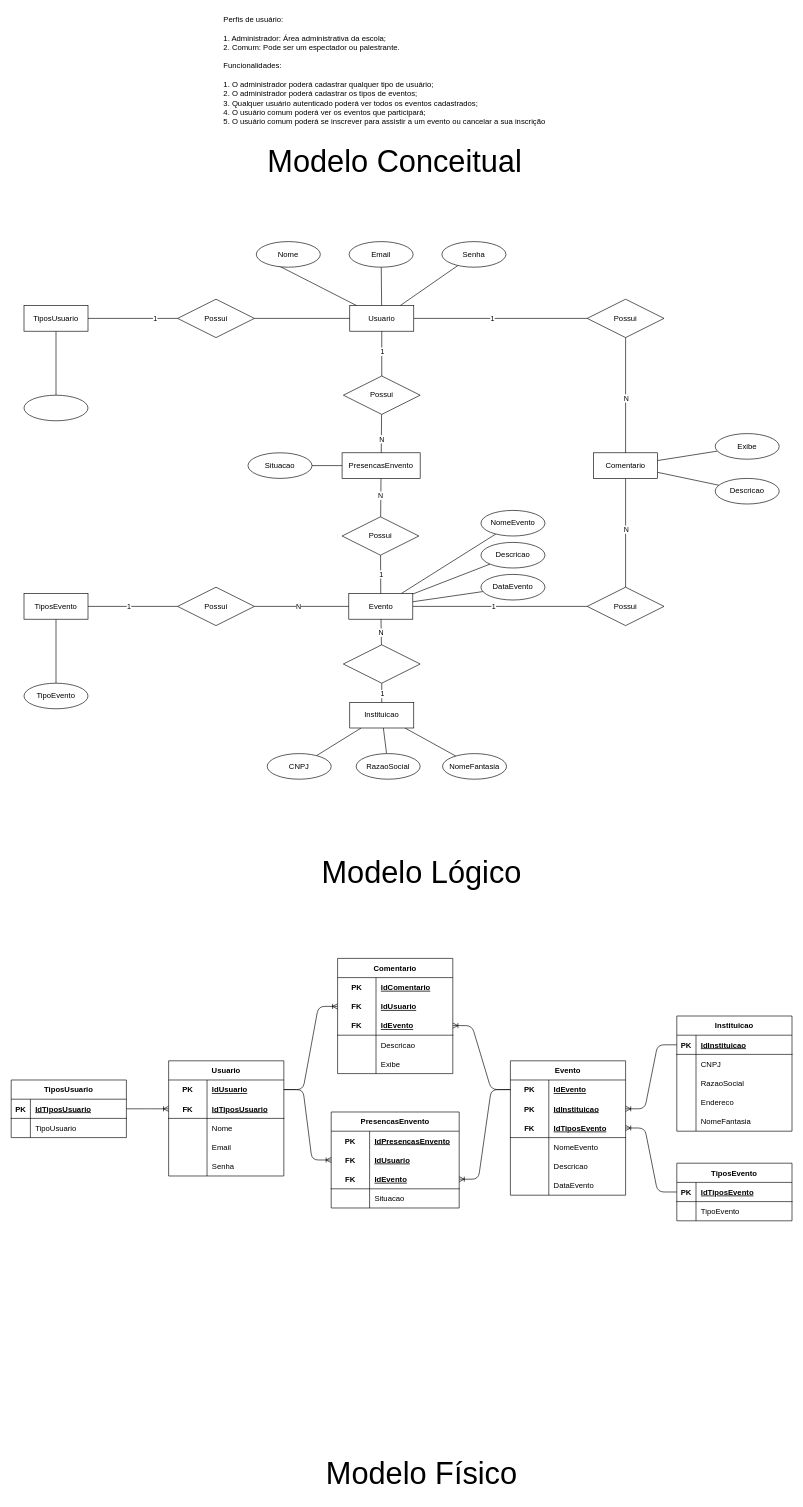
Some shapes in this 803 by 1507 pixel diagram are drawn without their labels. The centre of each missing label's shape, as x and y in pixels:
Attribute: pixel 55 408
Realiza: pixel 381 663
